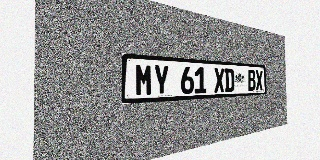1: (194, 67, 206, 94)
6: (180, 66, 194, 94)
B: (247, 70, 256, 91)
D: (224, 68, 234, 92)
M: (135, 64, 153, 96)
X: (214, 68, 224, 93), (255, 70, 263, 91)
Y: (153, 65, 169, 96)
